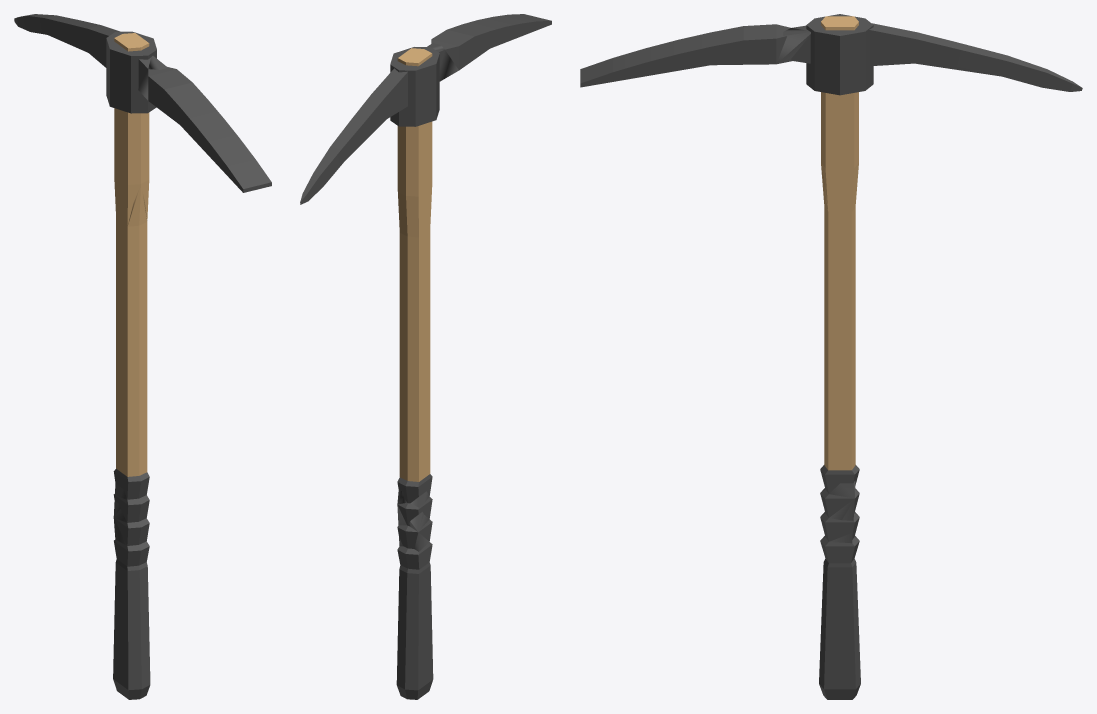
Rendered from item_pickaxe.glb.
3 renders of one model, left to right at view 1: azimuth 30°, elevation 25°; view 2: azimuth 150°, elevation 25°; view 3: azimuth 270°, elevation 25°, orthographic. The views are drawn at different scales.
Parts seen in each view (by area): view 1: Pickaxe_submesh_1, Pickaxe_submesh_0; view 2: Pickaxe_submesh_1, Pickaxe_submesh_0; view 3: Pickaxe_submesh_1, Pickaxe_submesh_0.
Boxes of the visible parts, bbox=[...] form: Pickaxe_submesh_1: bbox=[14, 14, 271, 699]; Pickaxe_submesh_0: bbox=[114, 33, 149, 476]; Pickaxe_submesh_1: bbox=[300, 14, 551, 699]; Pickaxe_submesh_0: bbox=[397, 48, 432, 481]; Pickaxe_submesh_1: bbox=[580, 14, 1082, 699]; Pickaxe_submesh_0: bbox=[821, 16, 858, 470].
Bounding box in the file's own units: 0.0587 × 0.8367 × 0.5656.
